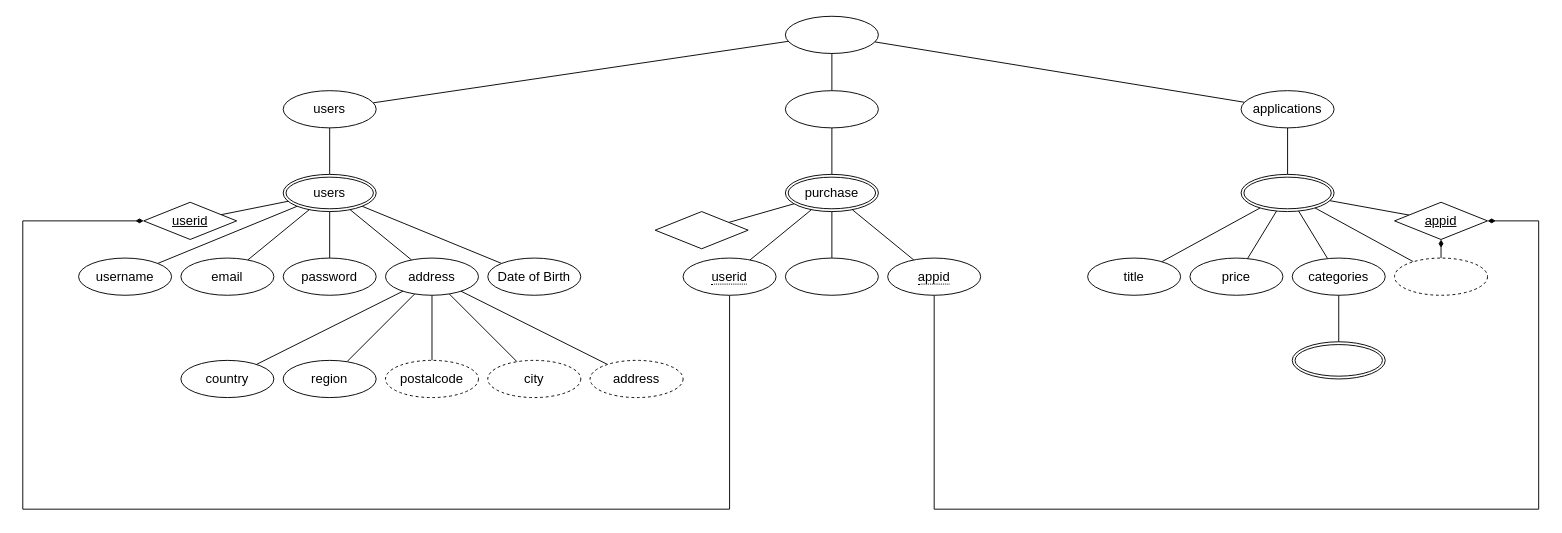
Some shapes in this 1562 by 533 pixel diagram are drawn without their labels. Here are the shapes that lost their labels. From the top down, the centre of each, then its label:
At point 831,34: "store".
At point 831,109: "purchases".
At point 1287,192: "application".
At point 701,230: "id".
At point 831,276: "Date of Purchase".
At point 1441,276: "basegame".
At point 1338,360: "category".
